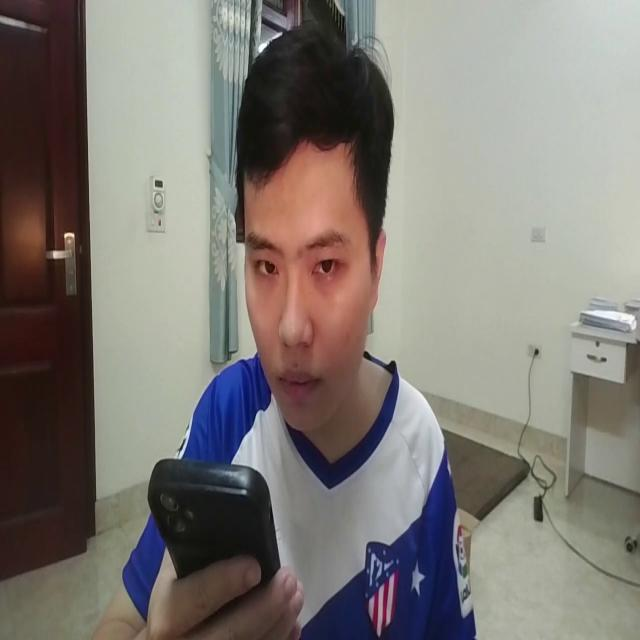phone: (130, 423, 306, 640)
student: (87, 15, 489, 640)
